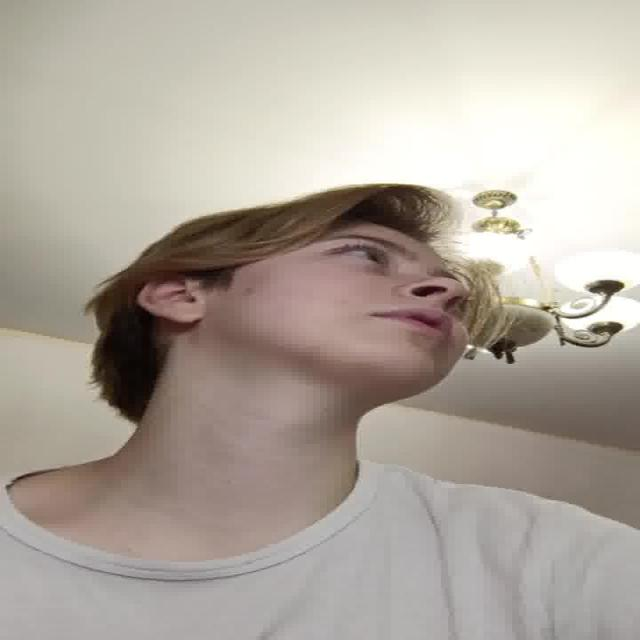earlobe: (138, 279, 206, 324)
